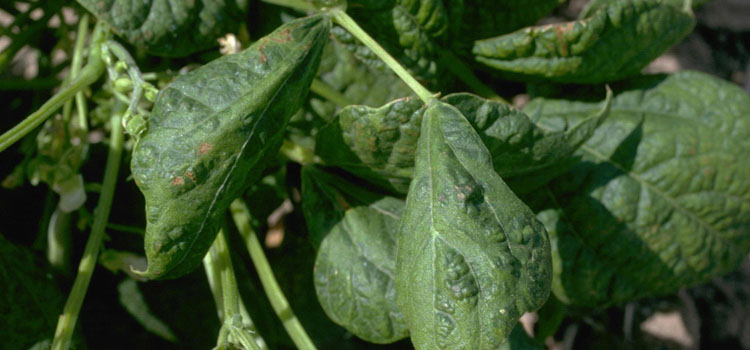StringBeans_Mosaic: (136, 20, 332, 283), (411, 106, 539, 324)
